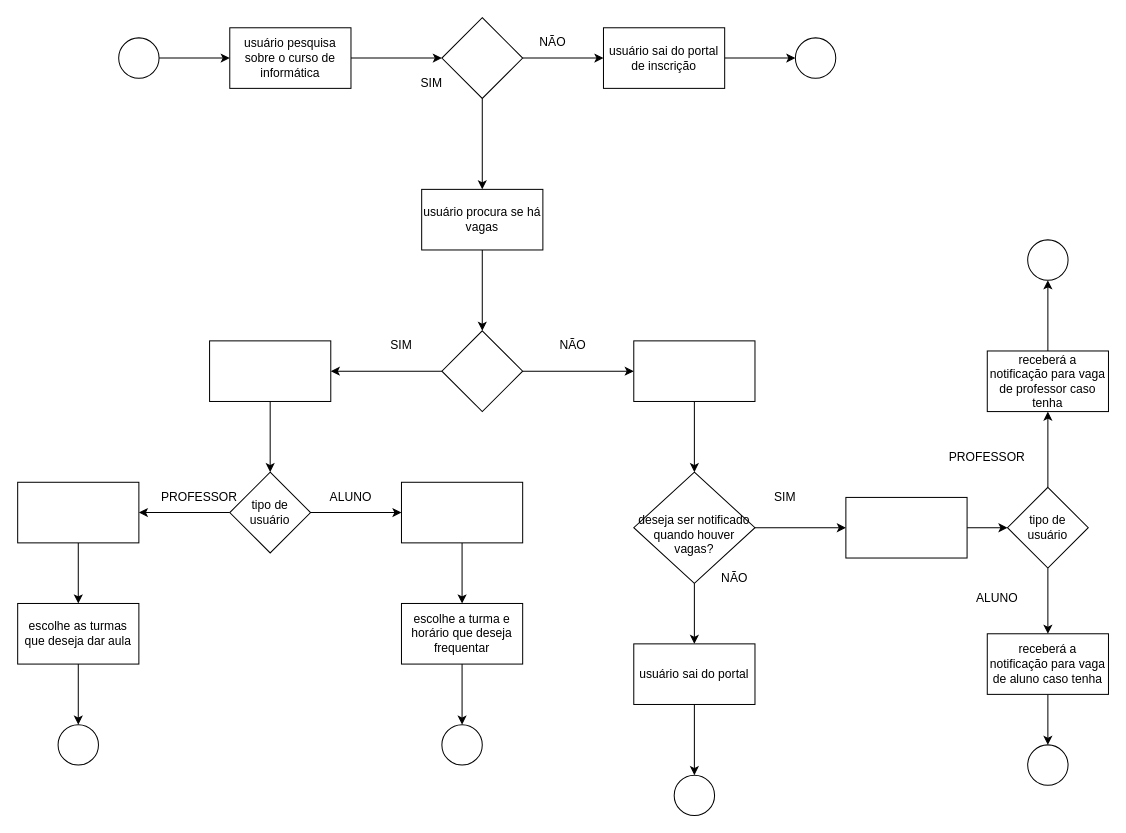
This 1126x833 diagram has some shape labels left out. The box of each missing label's shape, as (x1, y1, x2, y2) in pixels:
insere os dados de cadastro para aluno: (400, 481, 523, 543)
insere os dados de cadastro para professor: (17, 481, 139, 543)
insere os dados necessários para ser notificado: (845, 496, 967, 558)
se interessou?: (441, 17, 523, 98)
usuário procura local de cadastro: (209, 340, 331, 401)
usuário procura local de interesse nas vagas: (633, 340, 755, 401)
